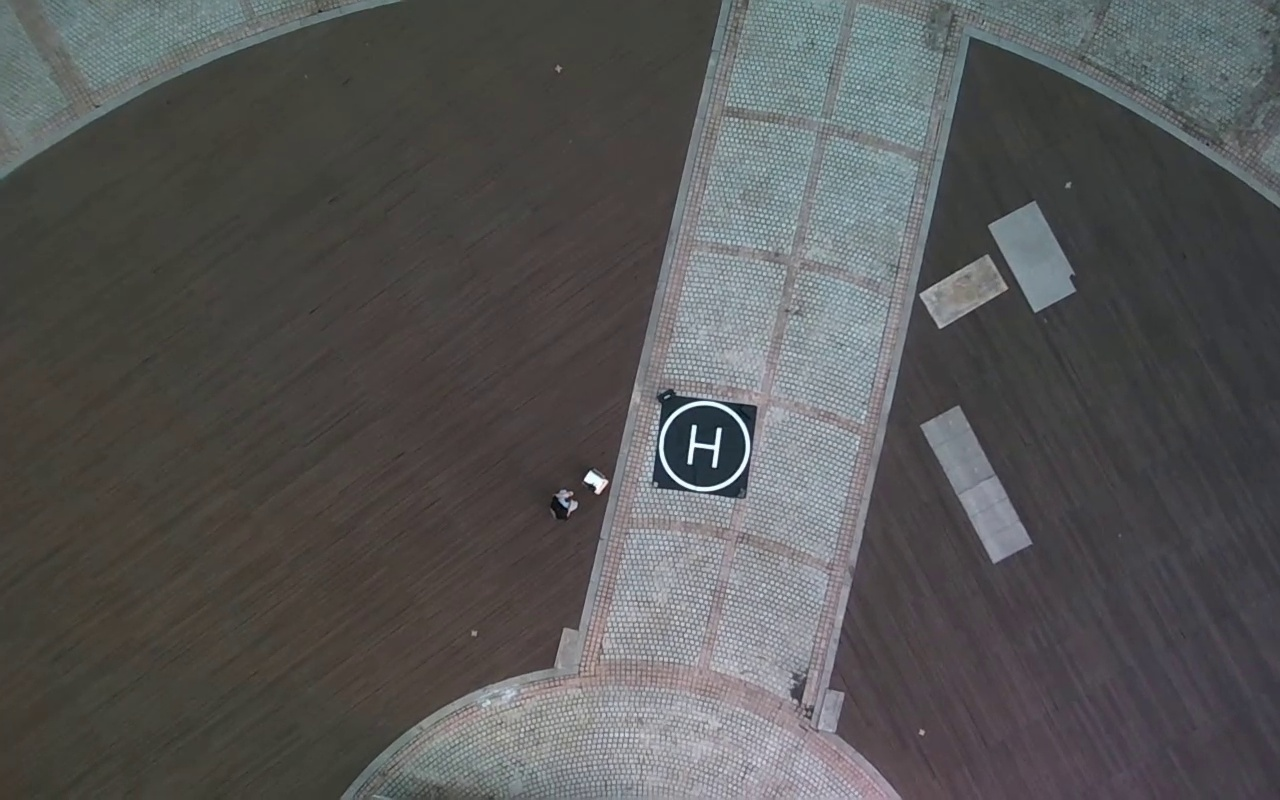H: (685, 424, 722, 469)
heliport: (658, 401, 754, 490)
